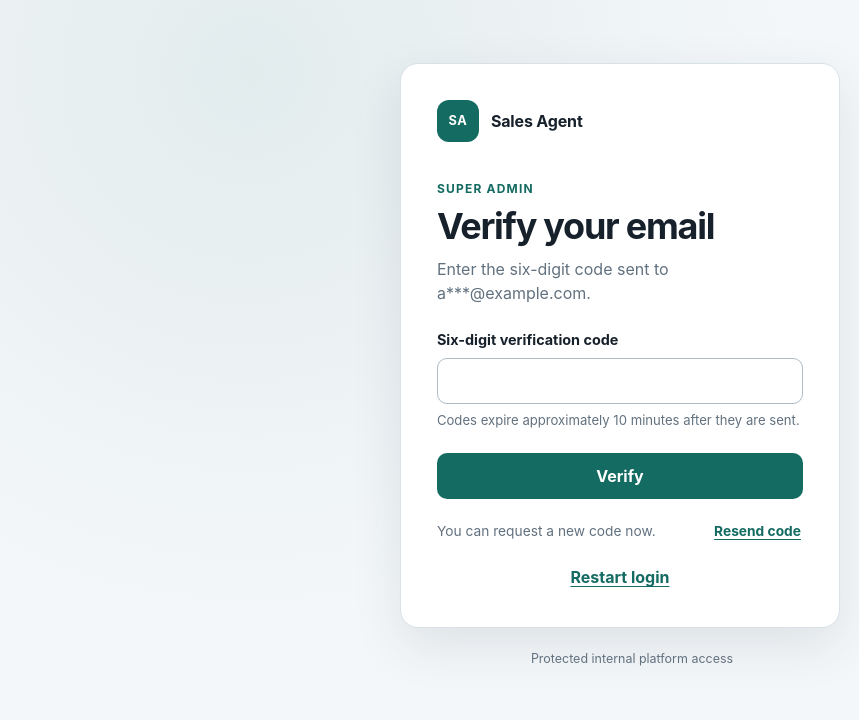
Test: Super Admin OTP verification › updates safe context and announces a successful resend
Click the button "Resend code" at x=758, y=531, box [712,519,803,543]
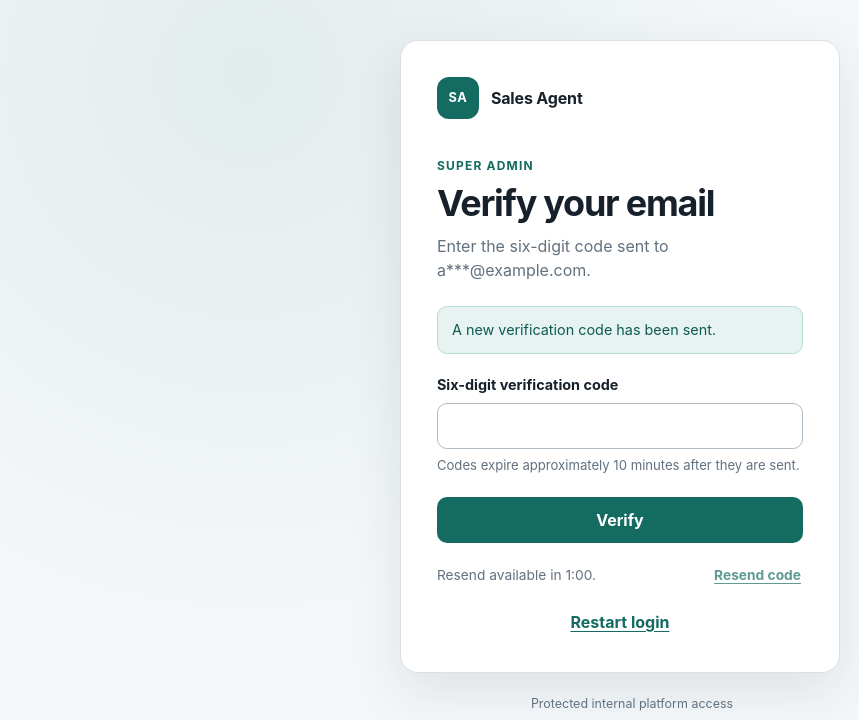
Expected: the message reads "A new verification code has been sent.", [452,321,716,338]
Expected: the button "Resend code" is disabled, [712,563,803,588]
